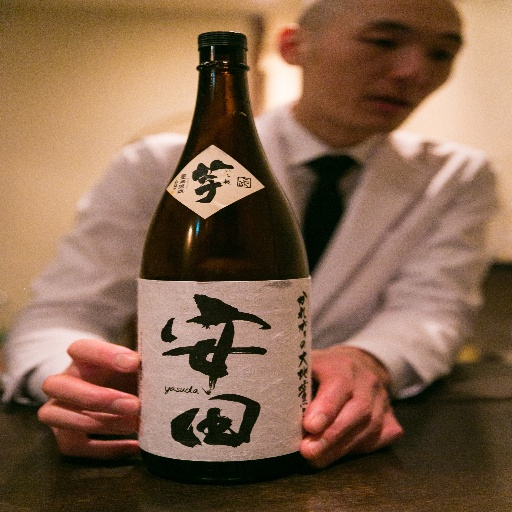hand: (33, 336, 143, 460), (309, 358, 411, 476)
